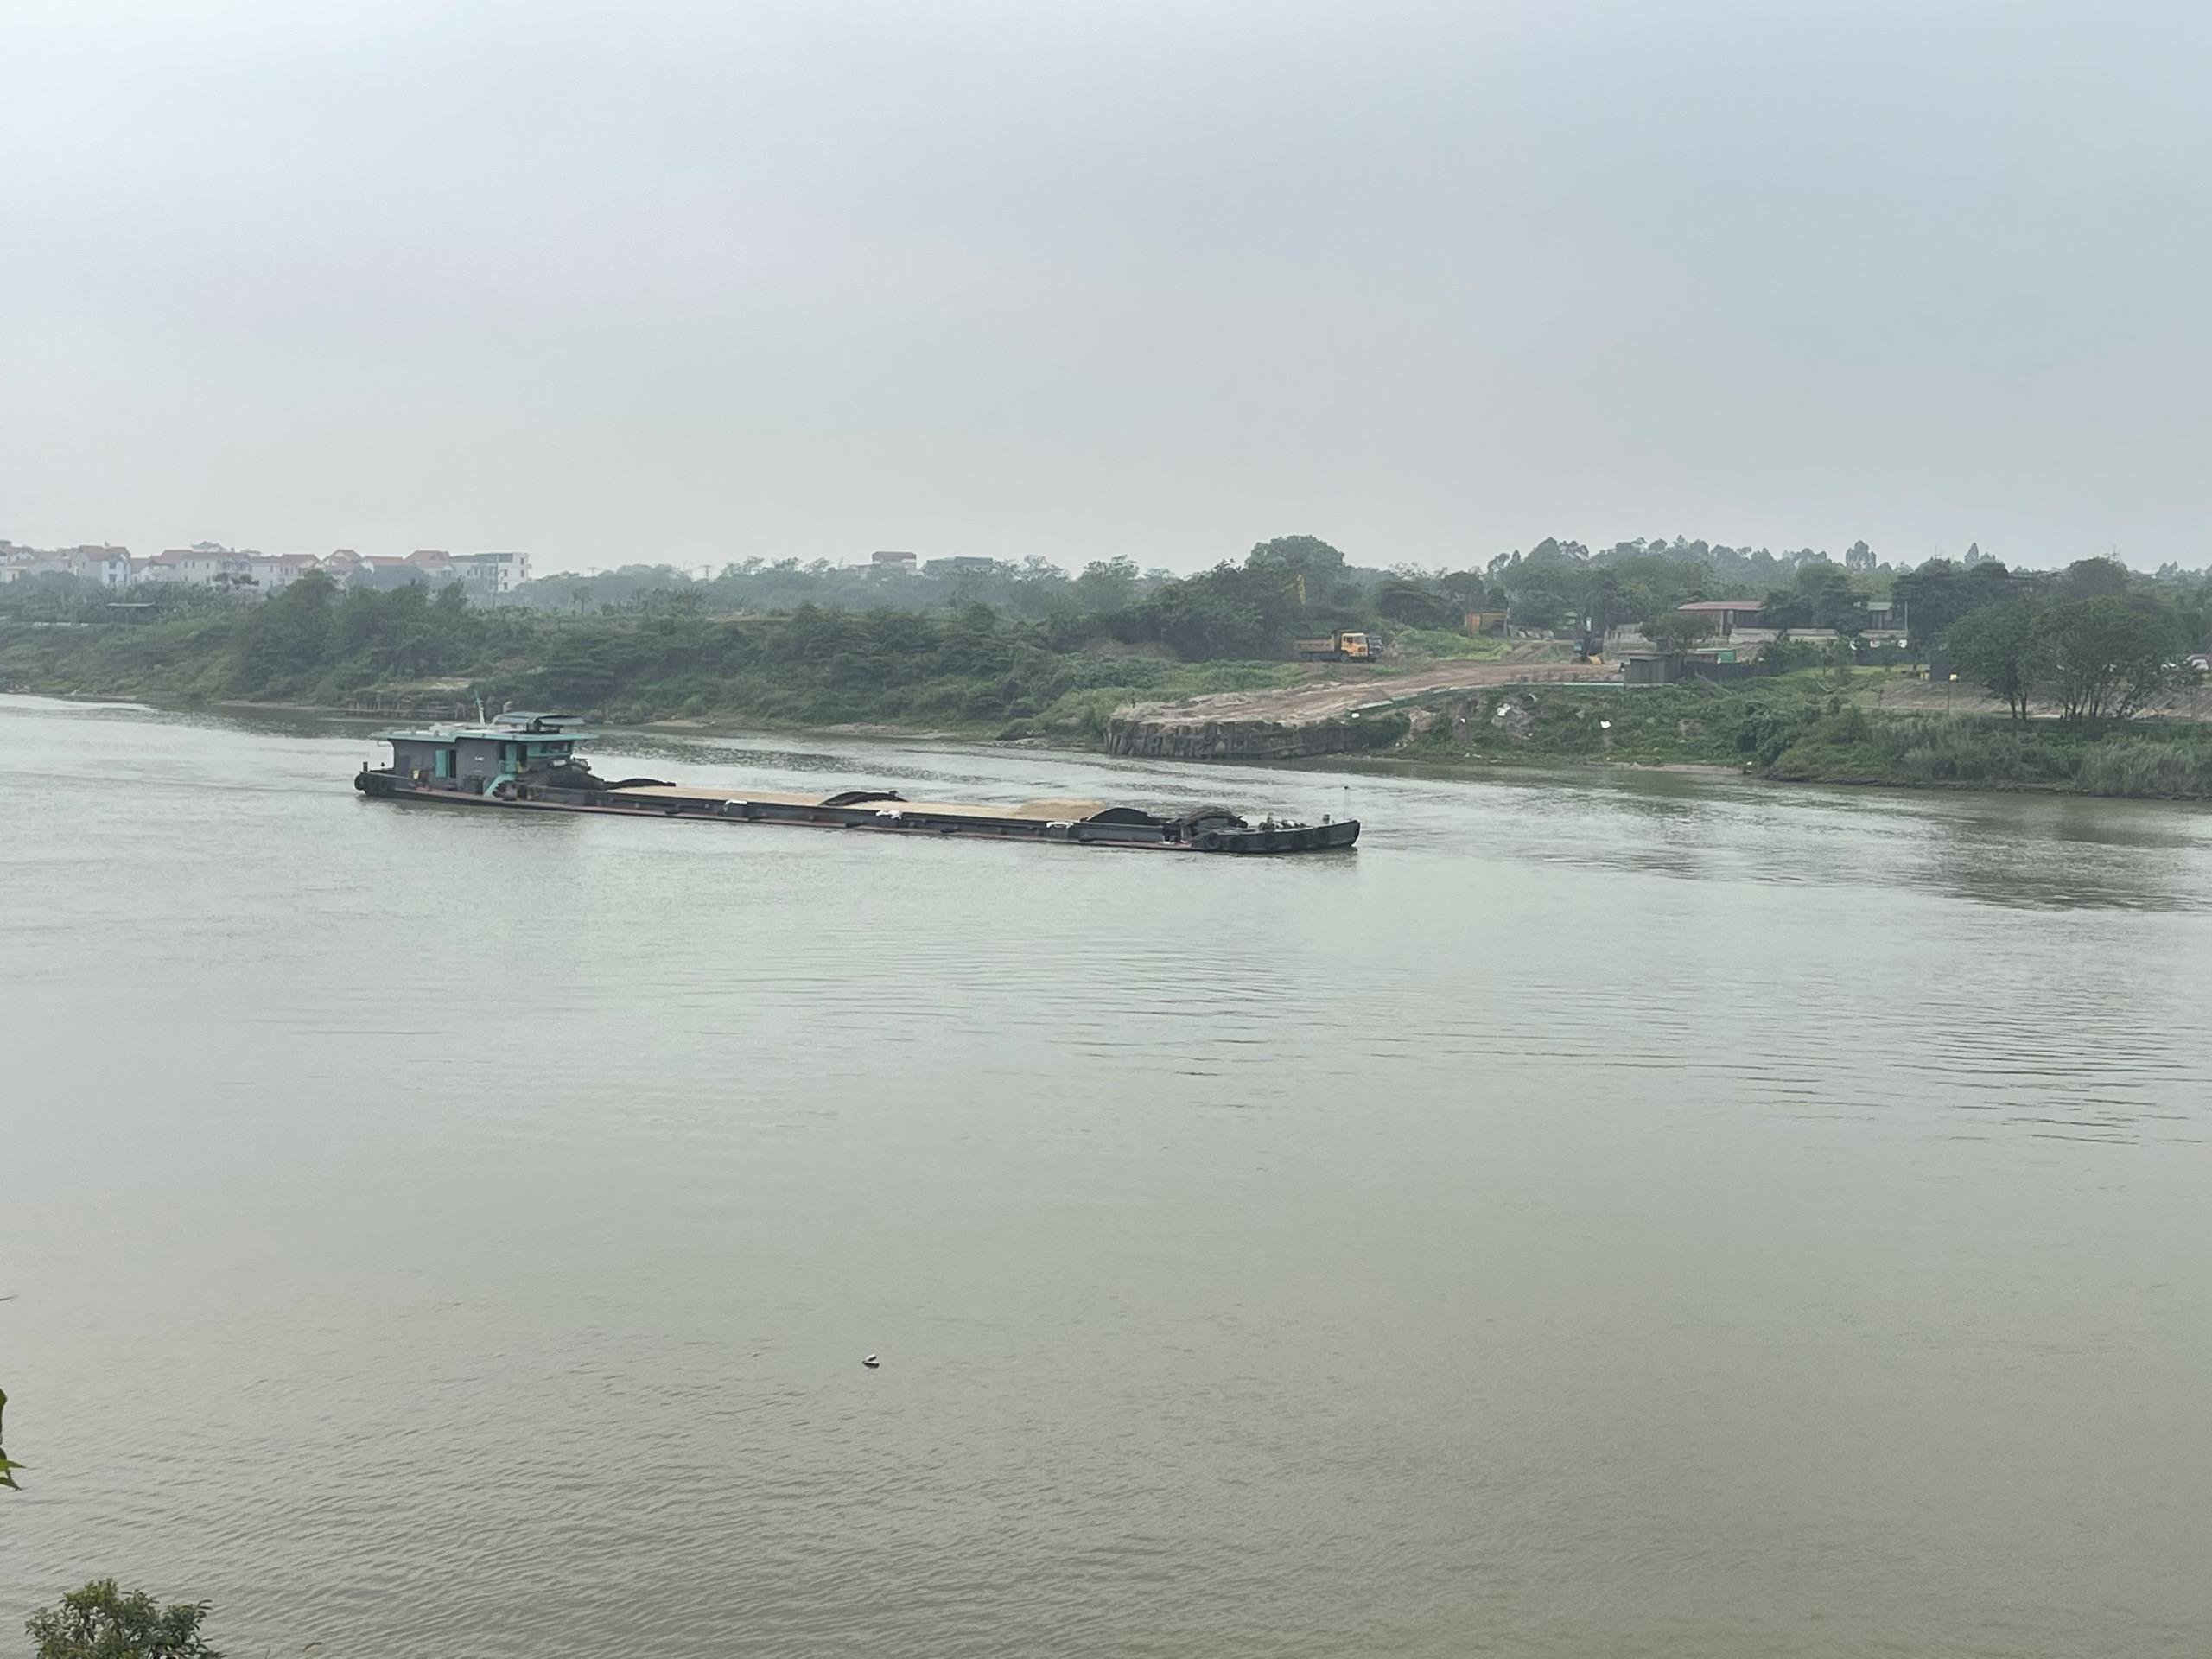Ship: (350, 720, 1378, 870)
